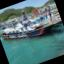fishing boat: (0, 6, 64, 51)
